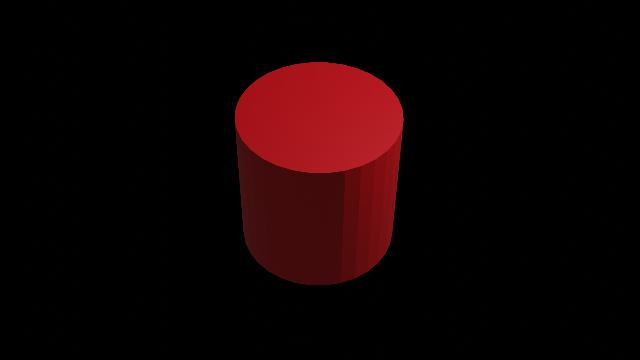Cylinder: (218, 53, 424, 292)
